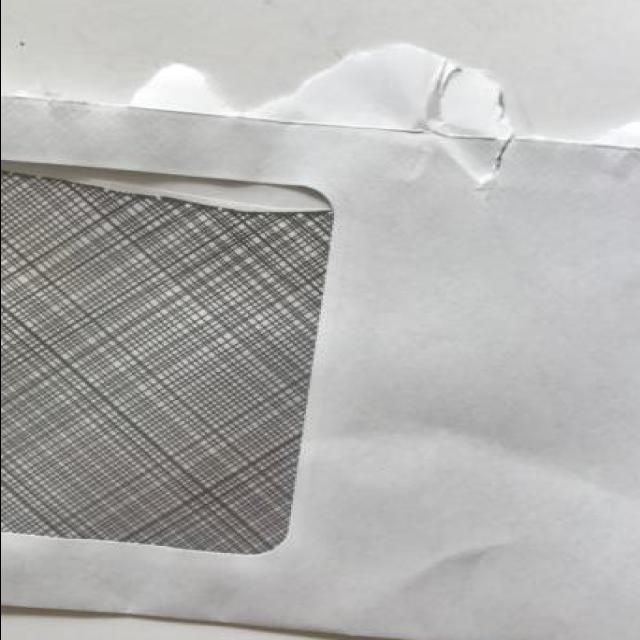kertas: (0, 38, 640, 640)
